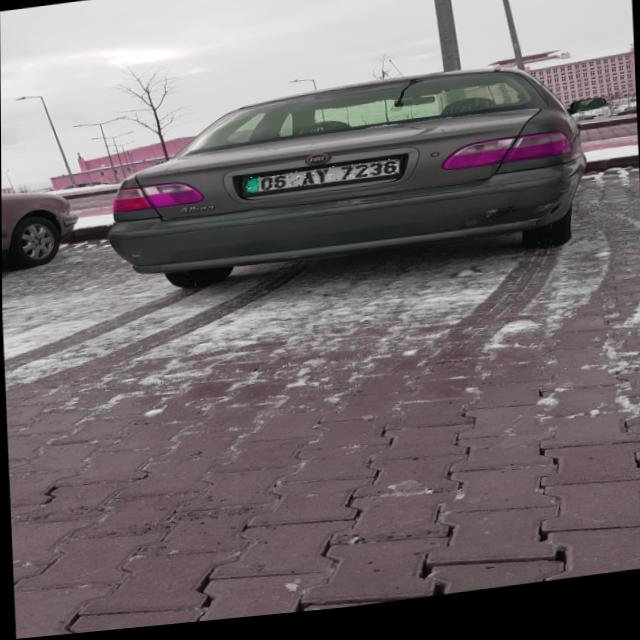license_plate: (244, 165, 400, 198)
